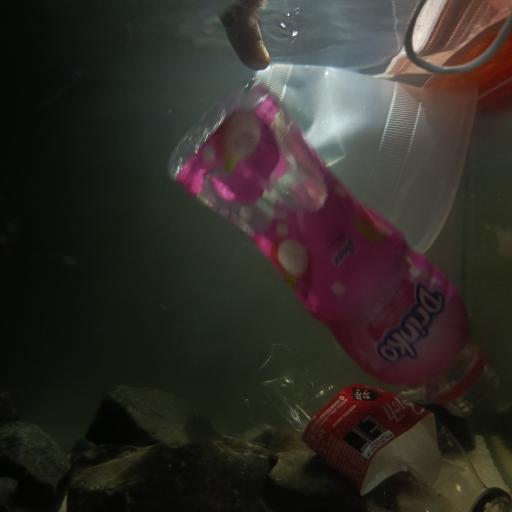mask: (395, 0, 512, 102)
plastic_bottle: (168, 88, 502, 416), (243, 338, 512, 512)
plastic_cup: (256, 61, 472, 263)
